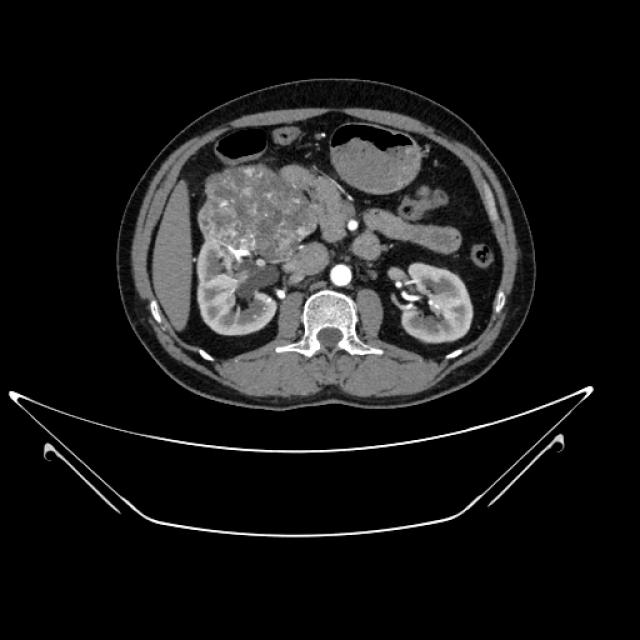Tumor: (189, 164, 340, 267)
